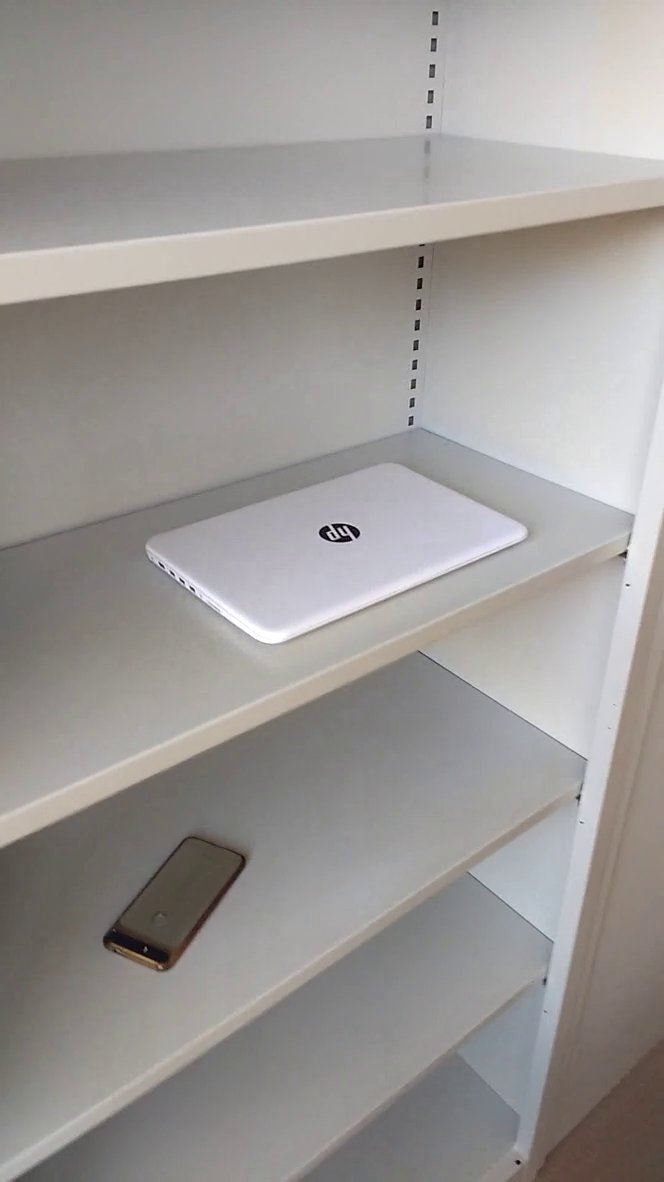laptop: (127, 452, 549, 659)
phone: (94, 824, 260, 980)
